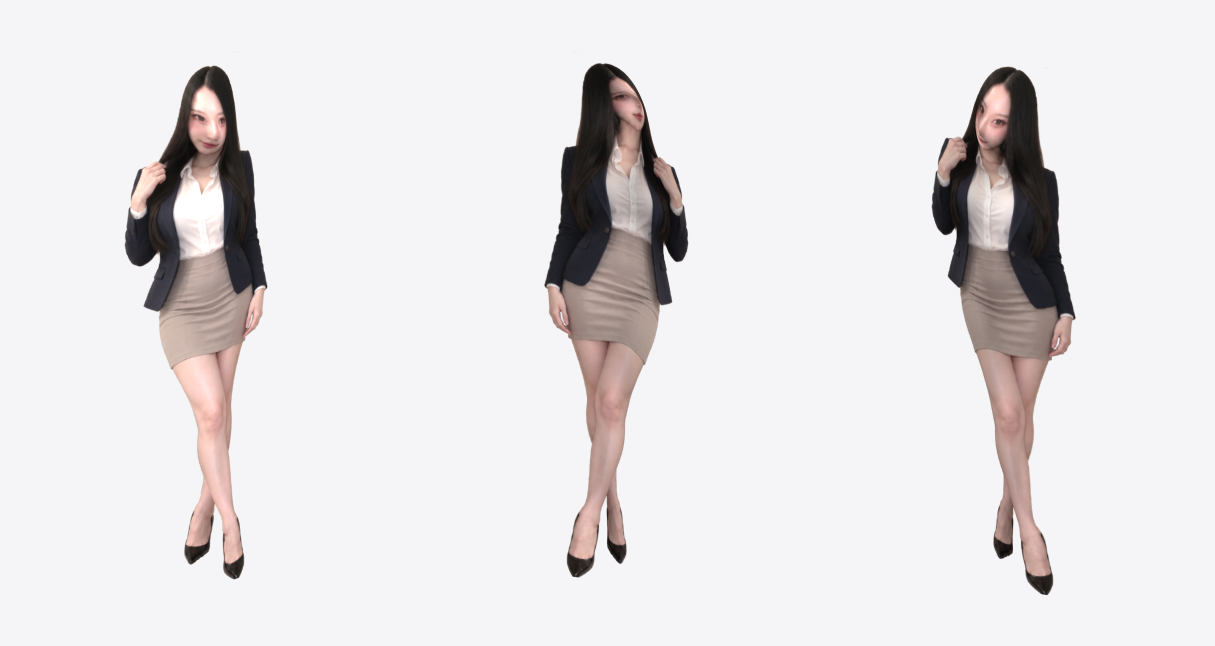
File: portrait.glb
The picture shows the model from 3 angles, left to right: view 1: azimuth 30°, elevation 25°; view 2: azimuth 150°, elevation 25°; view 3: azimuth 330°, elevation 25°; orthographic projection.
Parts seen in each view (by area): view 1: Portrait; view 2: Portrait; view 3: Portrait.
Boxes of the visible parts, box(x1,y1,x2,y2) form: Portrait: box(124, 65, 267, 579); Portrait: box(544, 63, 688, 577); Portrait: box(931, 66, 1075, 594).
Bounding box in the file's own units: 1.54 × 2.05 × 0.1649.
1 material, 1 textured.
